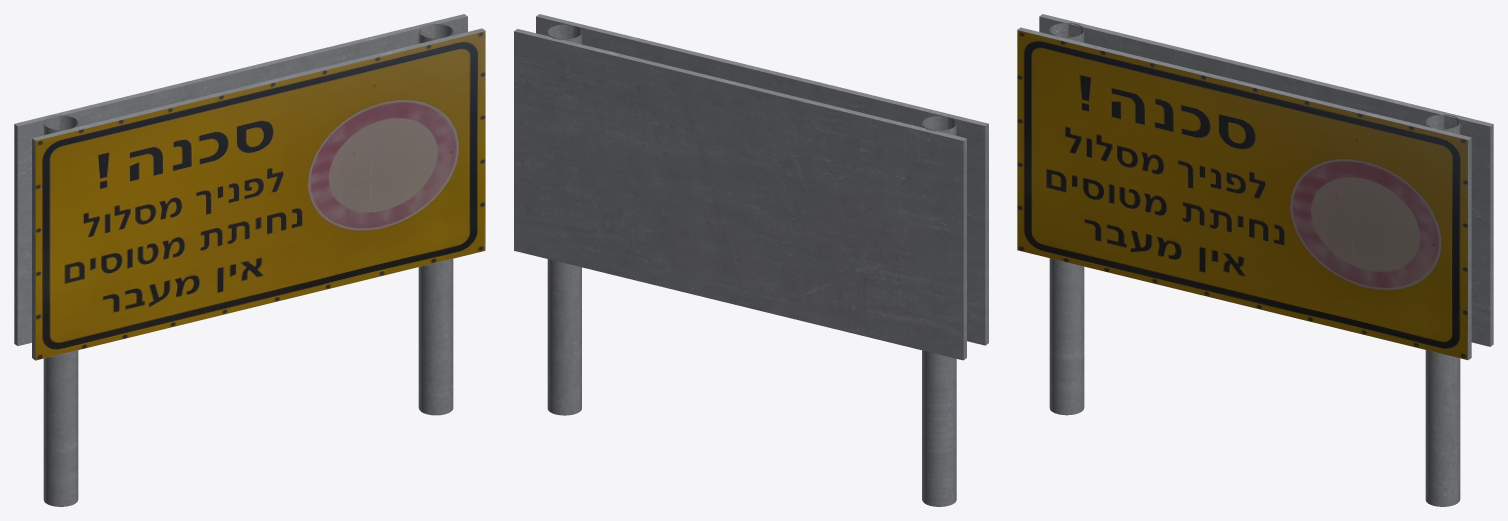
The model's file is KibuiSacanaShelet_LOD0.gltf.
3 views of the same model, side by side, from view 1: azimuth 30°, elevation 25°; view 2: azimuth 150°, elevation 25°; view 3: azimuth 330°, elevation 25° (orthographic).
Visible parts, largest first — view 1: node2, node1; view 2: node1; view 3: node2, node1.
Boxes of the visible parts, x1,y1,x2,y2 form: node2: (35,31,485,360); node1: (14,14,485,506); node1: (514,14,988,506); node2: (1017,30,1468,359); node1: (1017,14,1493,506).
Size of the model in its own units: 1.51 by 1.2 by 0.1351.
